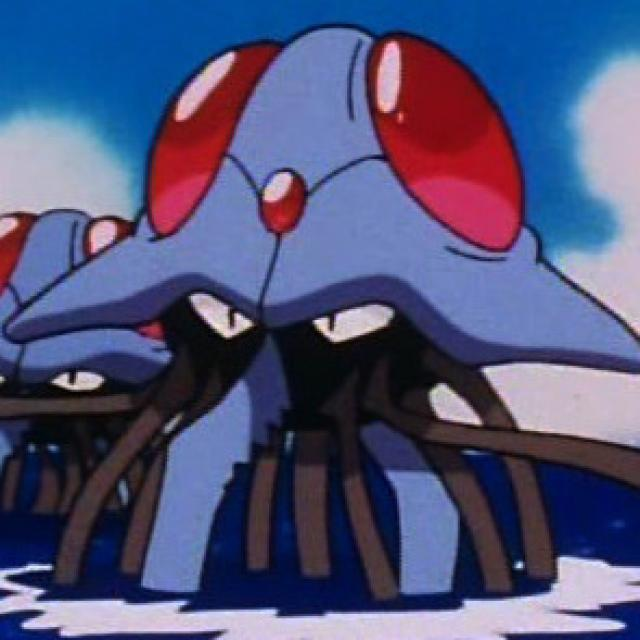Tentacruel: (131, 31, 546, 520), (0, 212, 156, 492)
